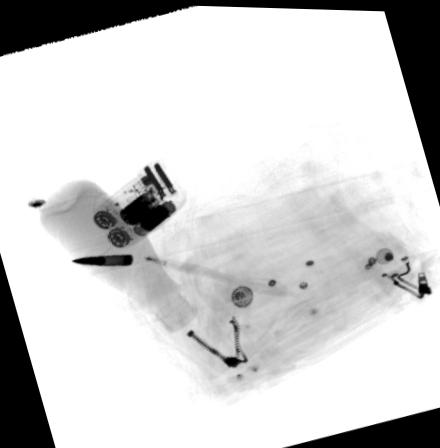Bullet: (67, 252, 132, 265)
